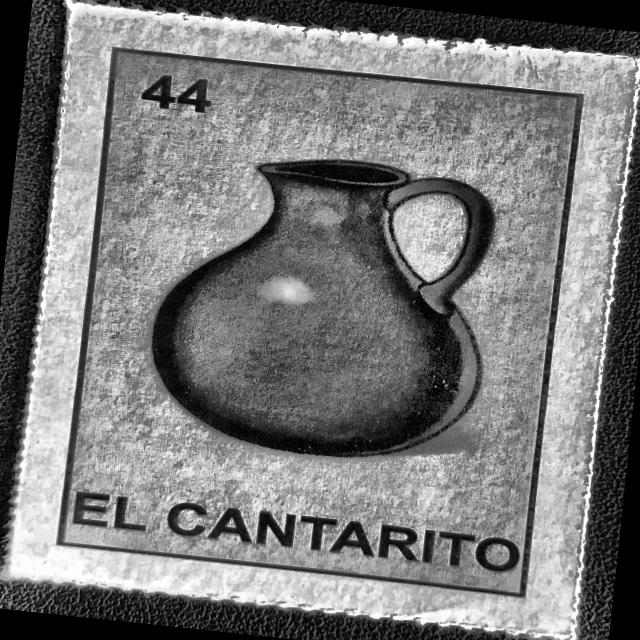El Cantarito: (27, 11, 620, 630)
